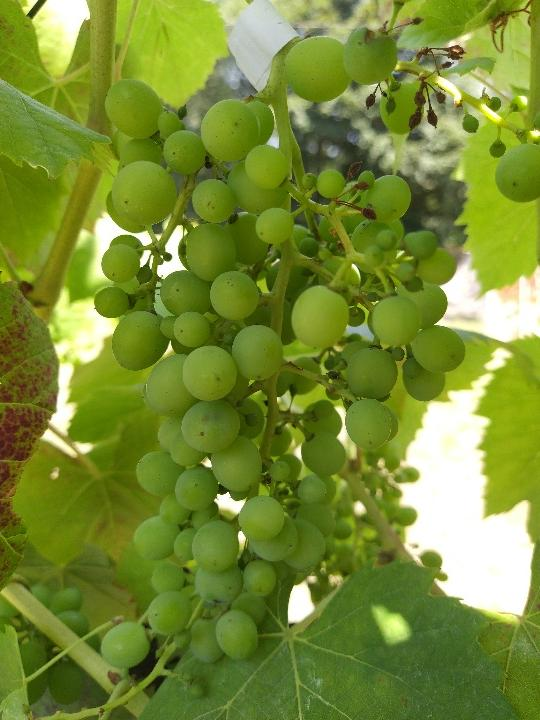grape: (97, 76, 471, 669)
